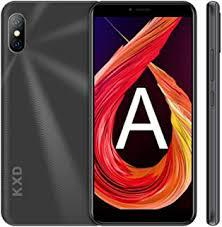Smartphone: (90, 4, 196, 219), (2, 2, 87, 220), (205, 0, 219, 224)
